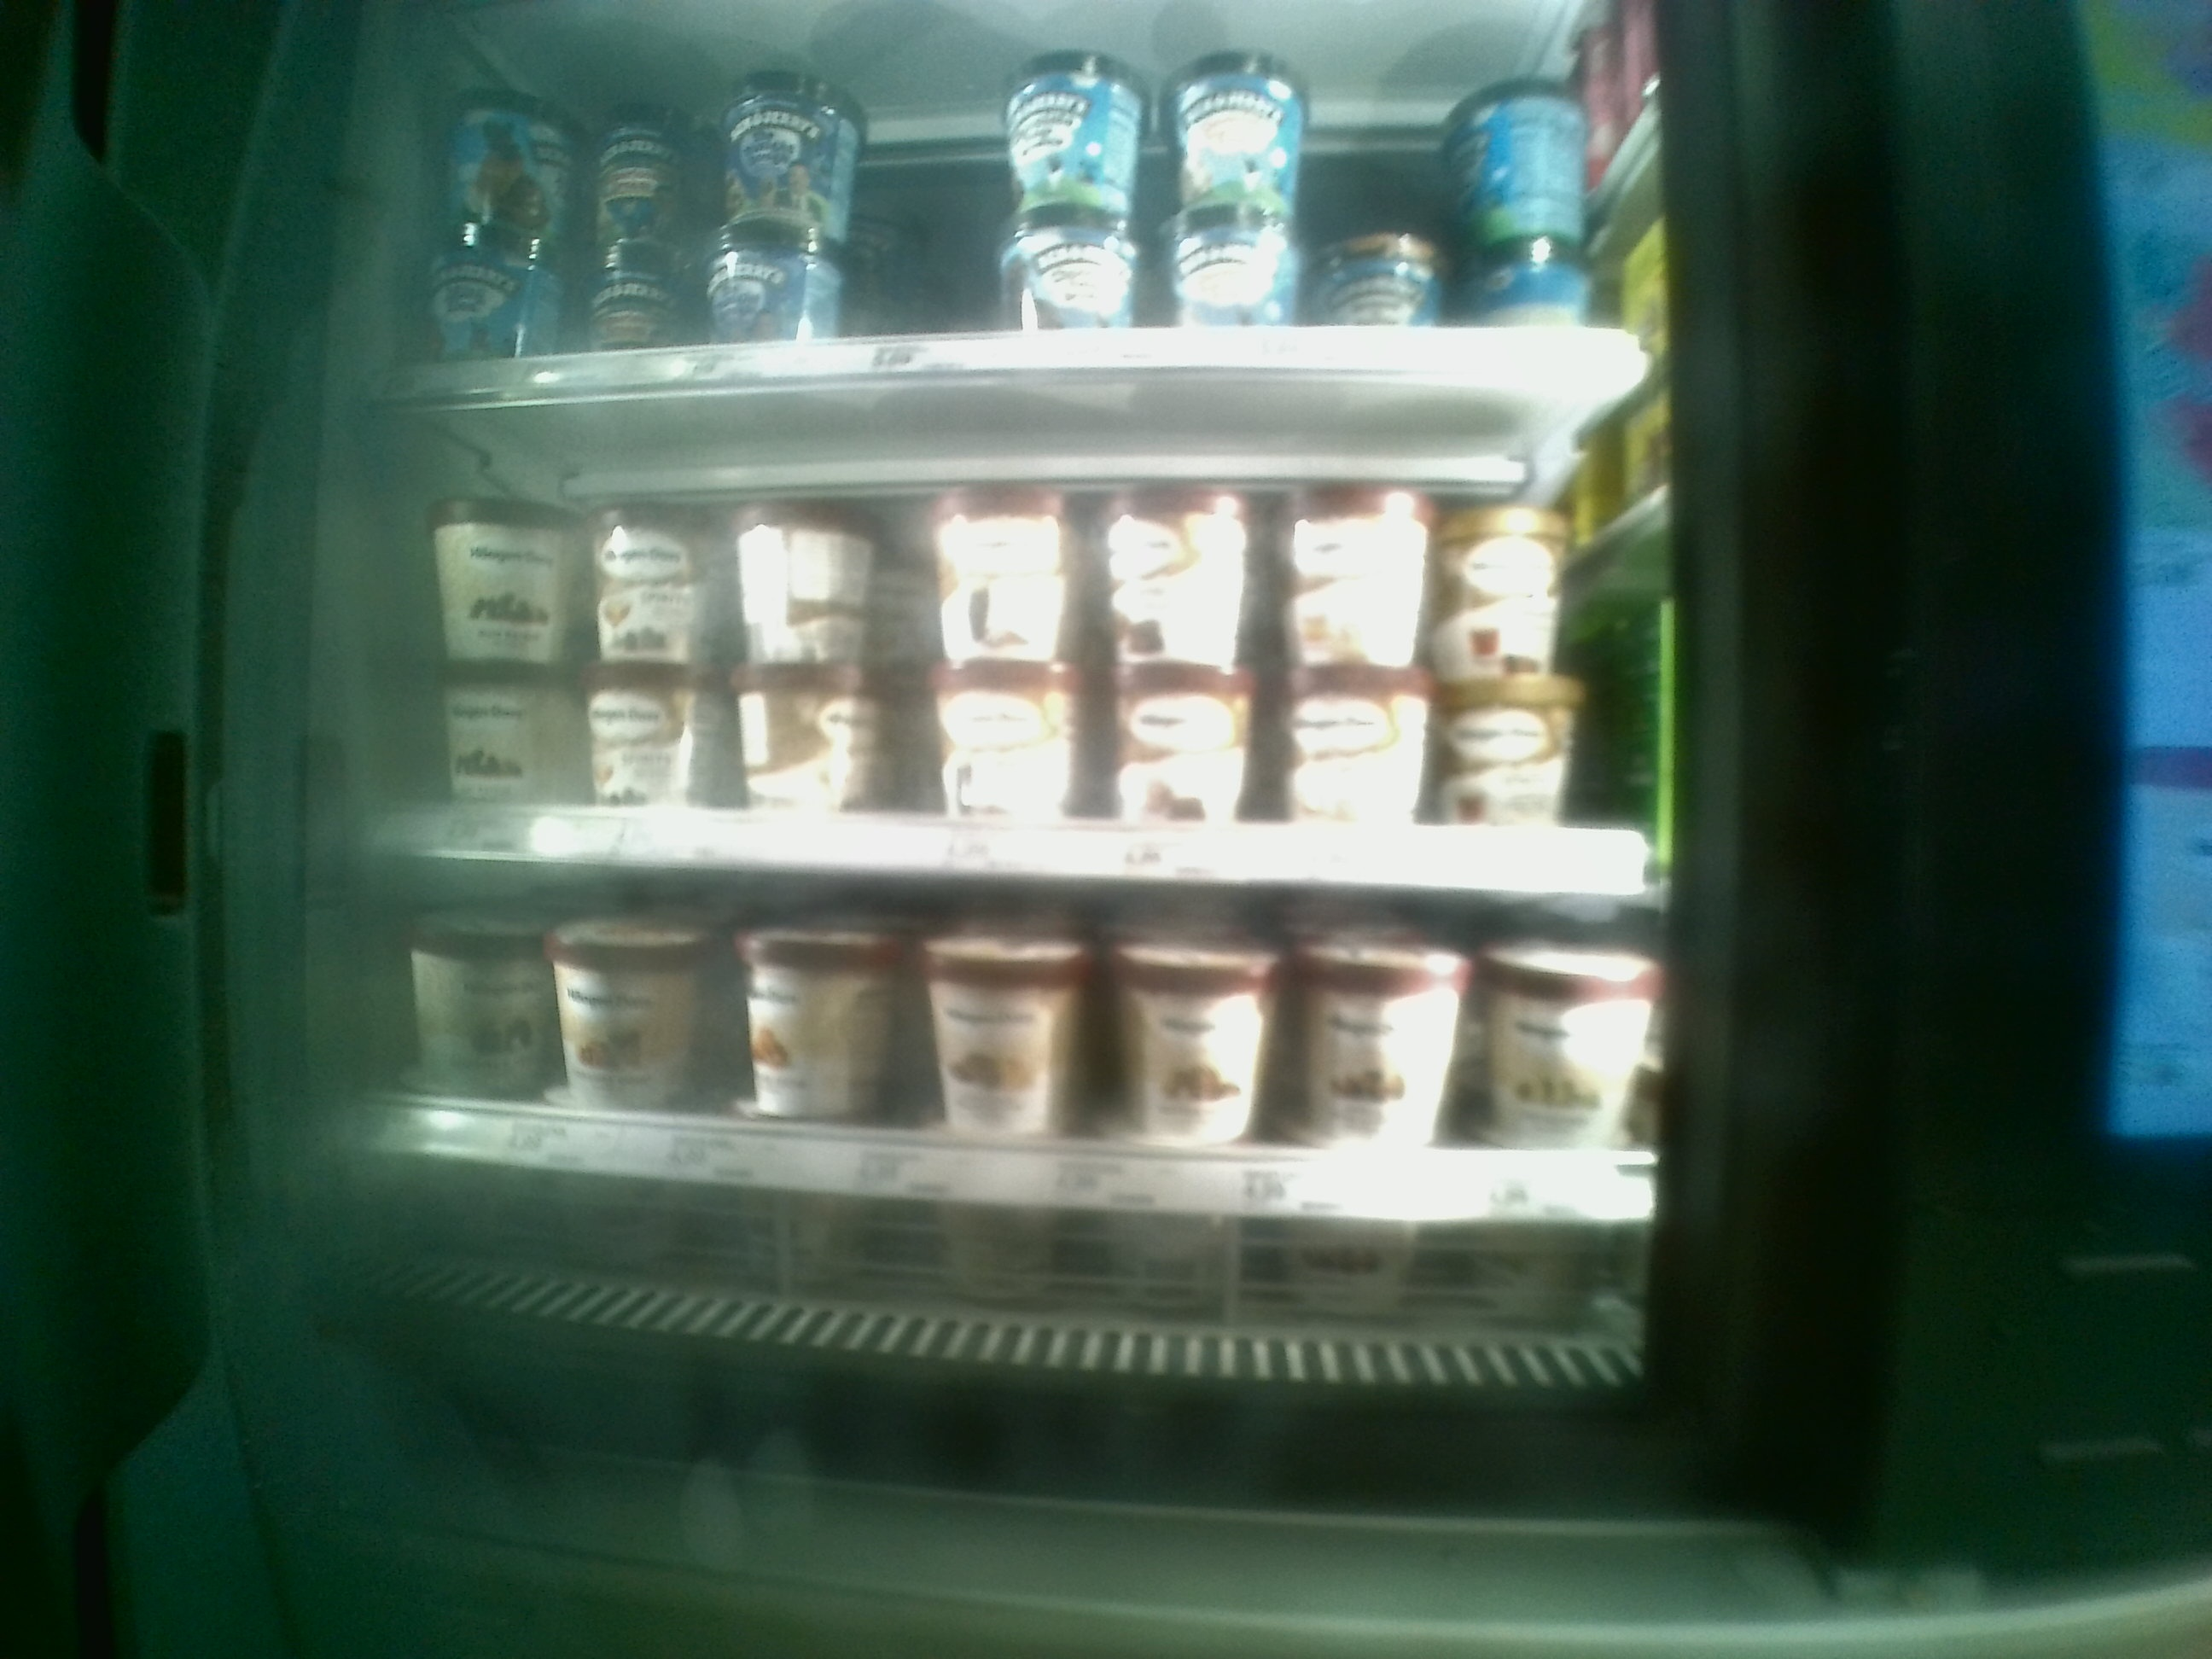shelf: (350, 390, 1658, 894), (361, 863, 1656, 1359)
